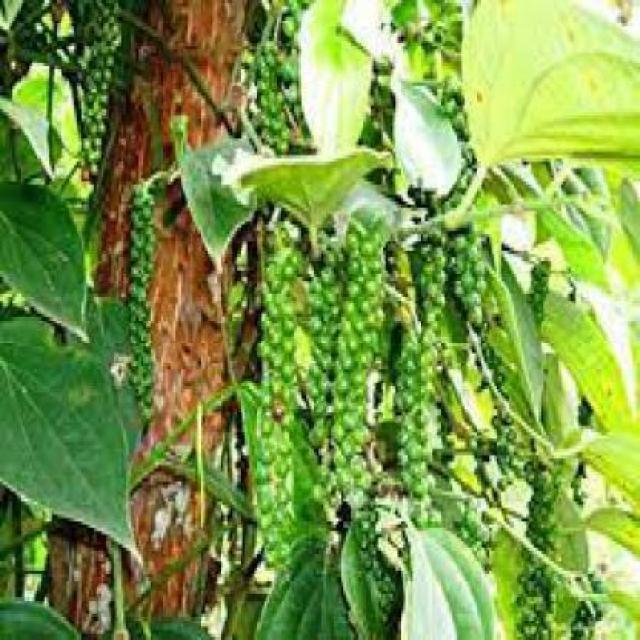UNRIPE: (403, 215, 446, 538), (334, 208, 378, 519), (259, 208, 296, 565), (122, 182, 160, 406), (519, 442, 559, 636), (77, 3, 118, 182), (249, 33, 285, 145)
